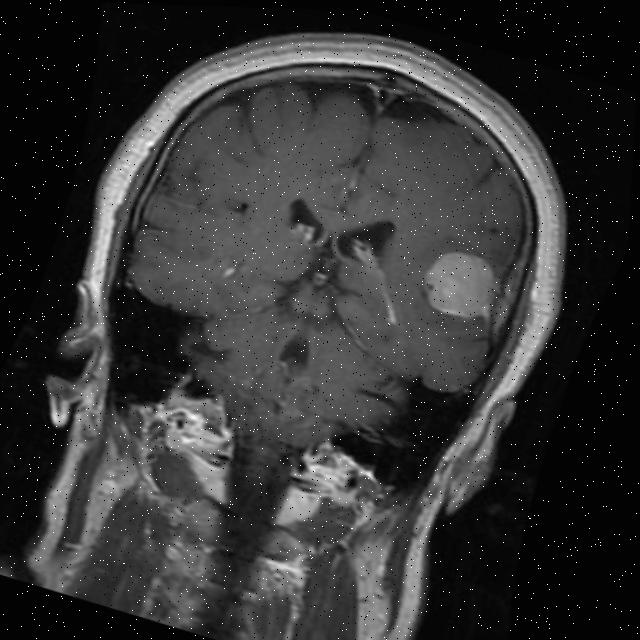Meningioma: (410, 239, 512, 331)
